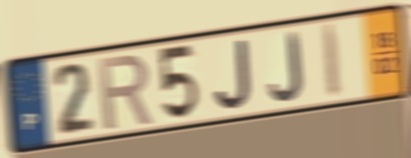2: (51, 61, 97, 137)
5: (157, 40, 202, 124)
I: (320, 20, 344, 101)
J: (212, 36, 254, 112), (267, 29, 305, 104)
R: (96, 51, 155, 133)
